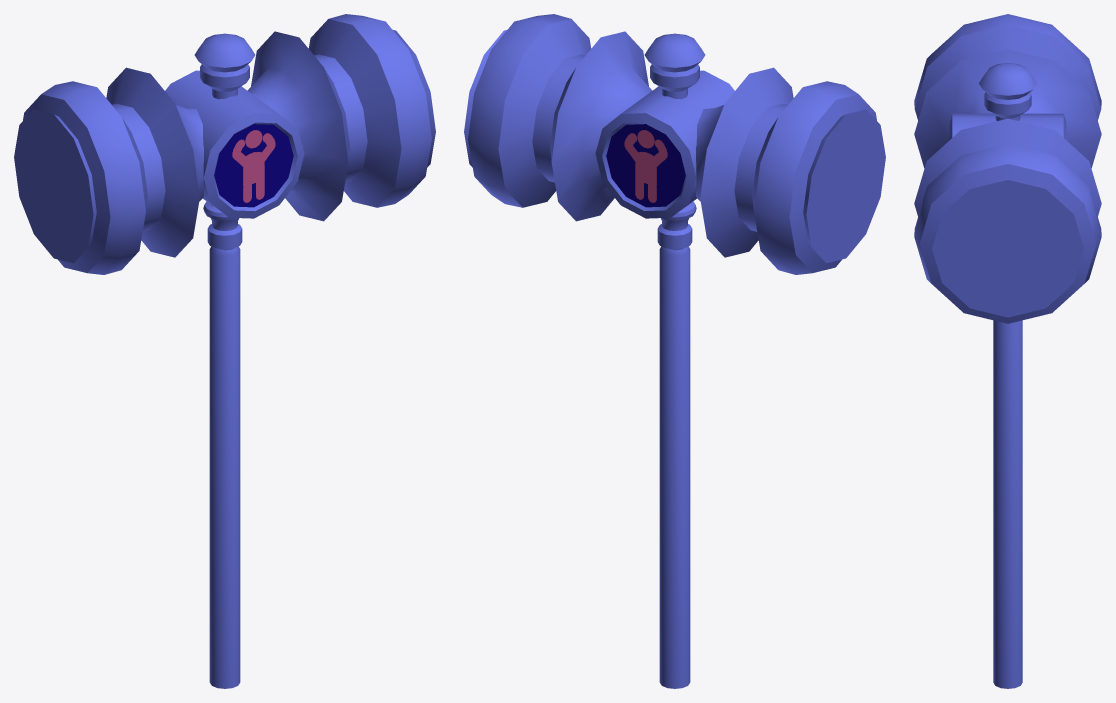
File: hammer.fbx
3 renders of one model, left to right at view 1: azimuth 30°, elevation 25°; view 2: azimuth 150°, elevation 25°; view 3: azimuth 270°, elevation 25°, orthographic. The views are drawn at different scales.
Parts seen in each view (by area): view 1: Hammer; view 2: Hammer; view 3: Hammer.
Part boxes in pixels (x1,y1,x2,y2): Hammer: (14, 14, 435, 688); Hammer: (464, 14, 885, 688); Hammer: (914, 14, 1101, 688).
Size of the model in its own units: 1087 by 1953 by 540.
2 materials, 1 textured.
